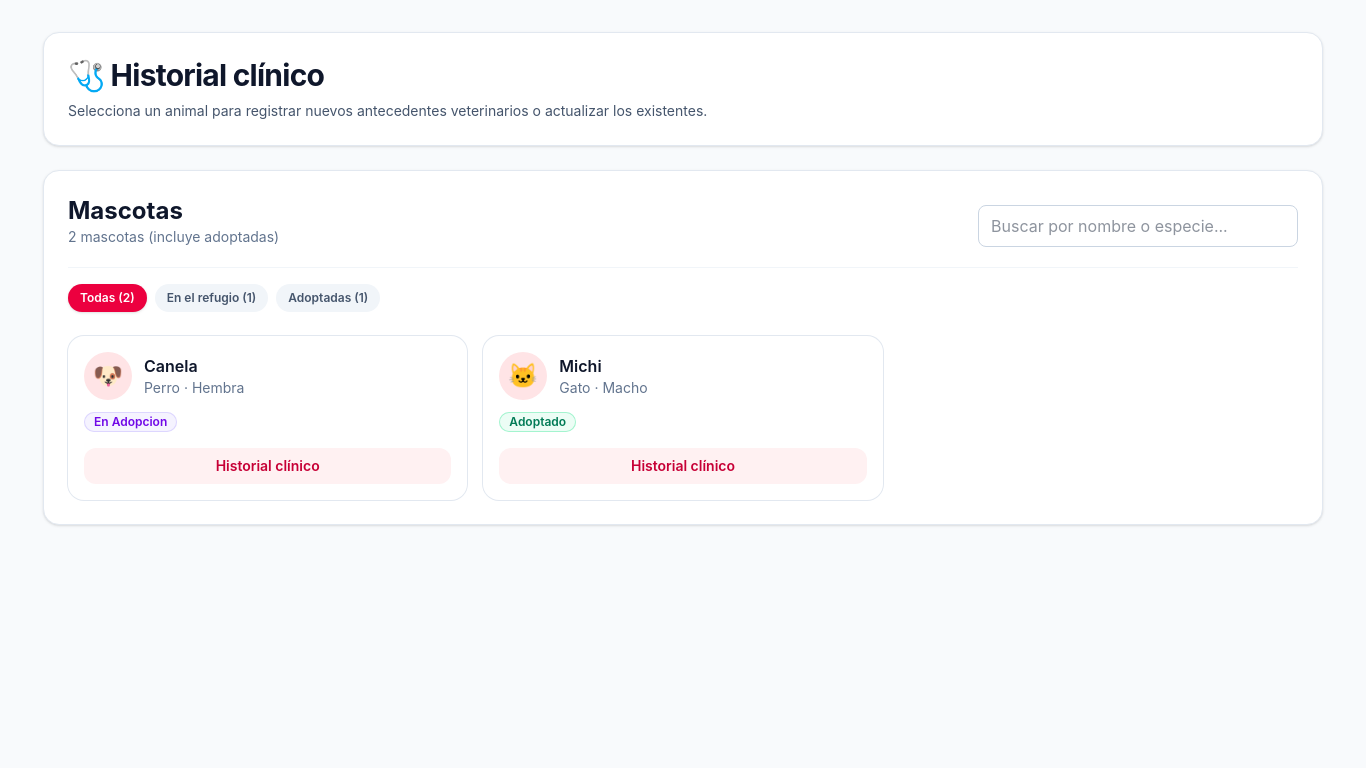
Test: Formulario de registro clínico › la lista de veterinarios sale de las cuentas del refugio
Check: the text "Canela" is shown, box [144, 356, 198, 376]
Click the button "Historial clínico" below "Canela" at (268, 466), box [84, 448, 451, 484]
(page scrolled)
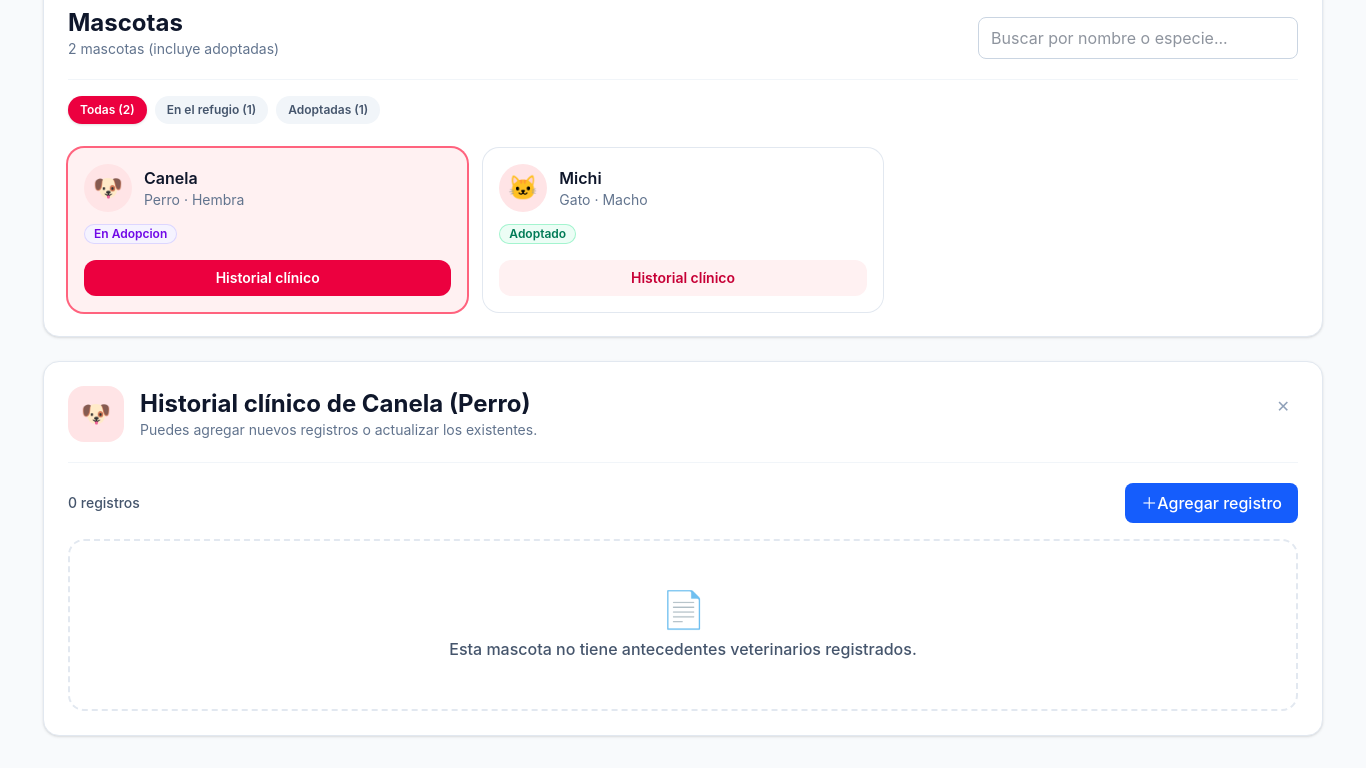
Click the button "＋Agregar registro" at (1212, 503), box [1125, 483, 1298, 523]
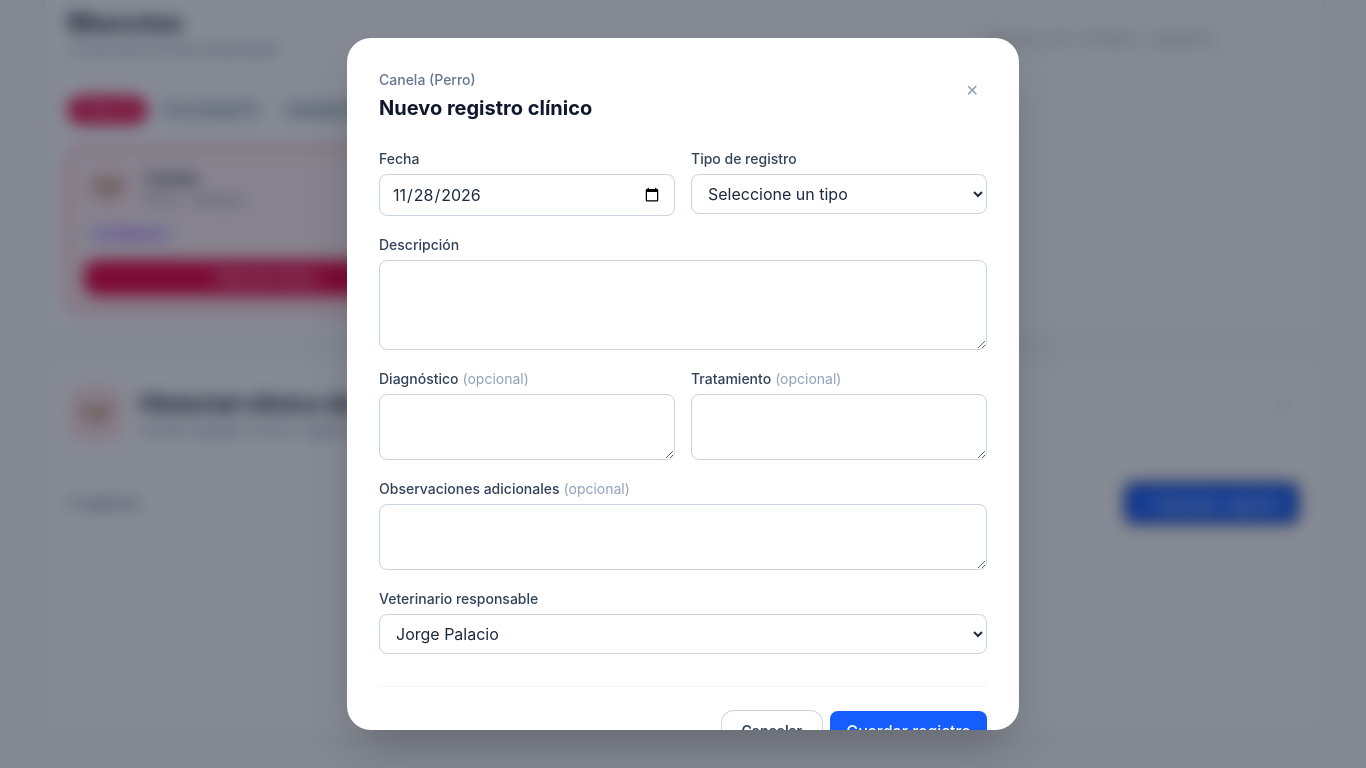
Check: the heading "Nuevo registro clínico" is shown, box [379, 94, 592, 122]
Check: the dropdown labelled "Veterinario responsable" shows "Jorge Palacio", box [379, 614, 987, 654]
